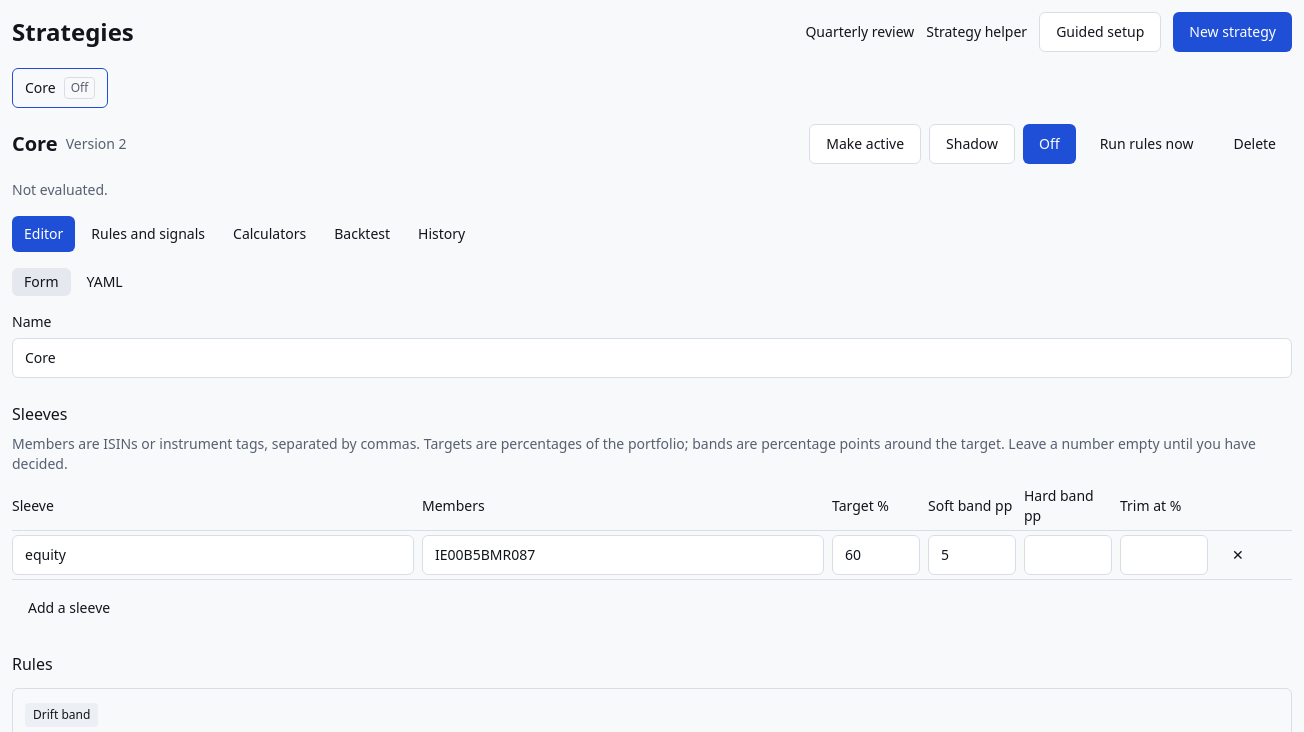
Test: rules, signals and history (FR-ST-02, FR-ST-03) › says which rules wait for what and marks shadow signals
The width and height of the screenshot is (1304, 732).
Click the tab "Rules and signals" at (148, 234), box [79,216,217,252]
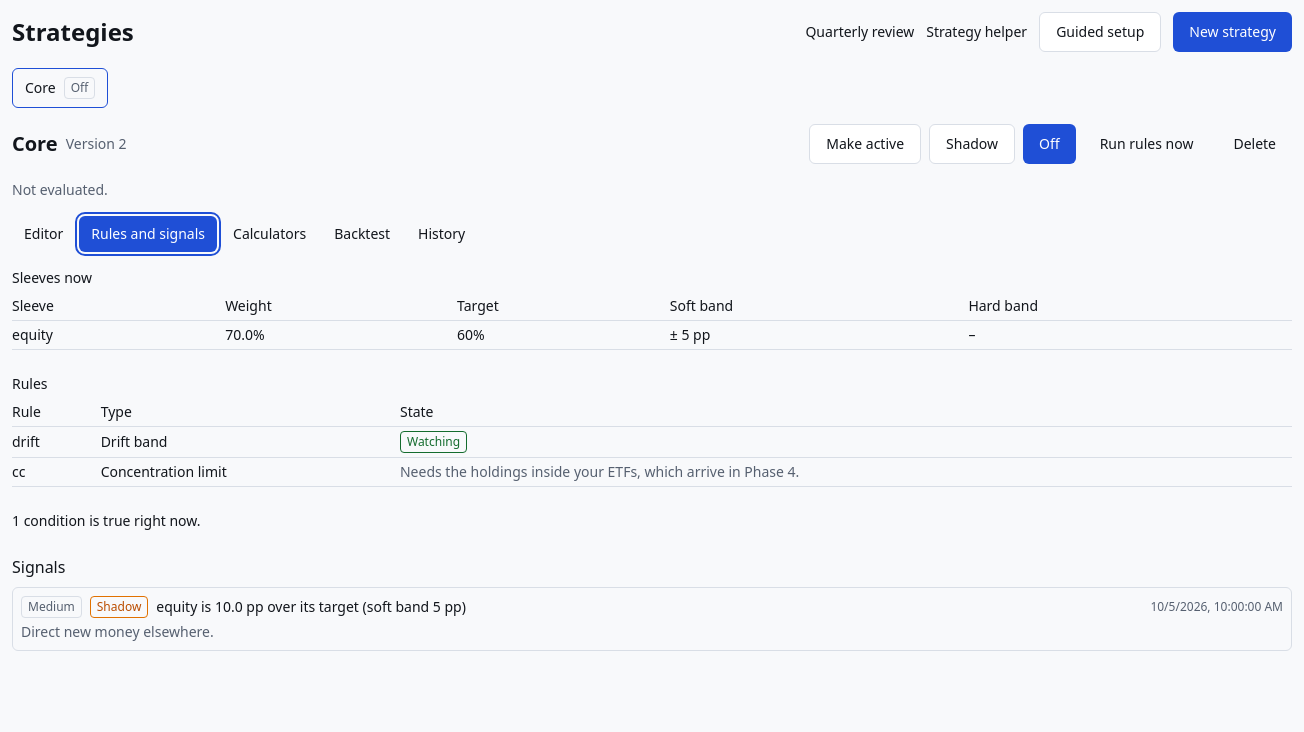
Expected: the text "arrive in Phase 4" is shown, [400,462,799,481]
Expected: the text "Watching" is shown, [400,431,467,453]
Expected: the text "1 condition is true right now." is shown, [12,511,200,530]
